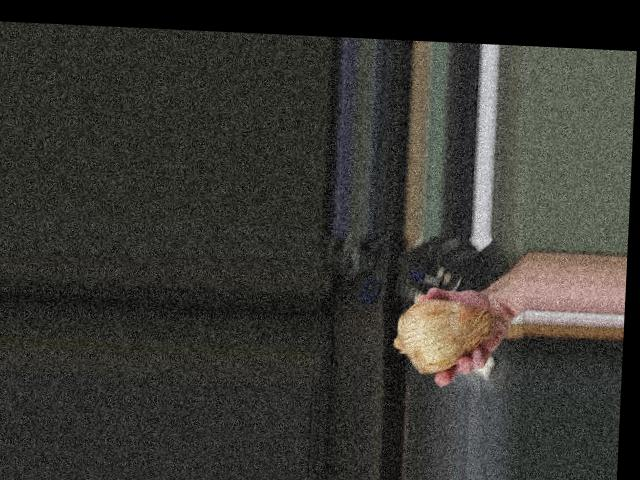onion: (393, 296, 488, 375)
